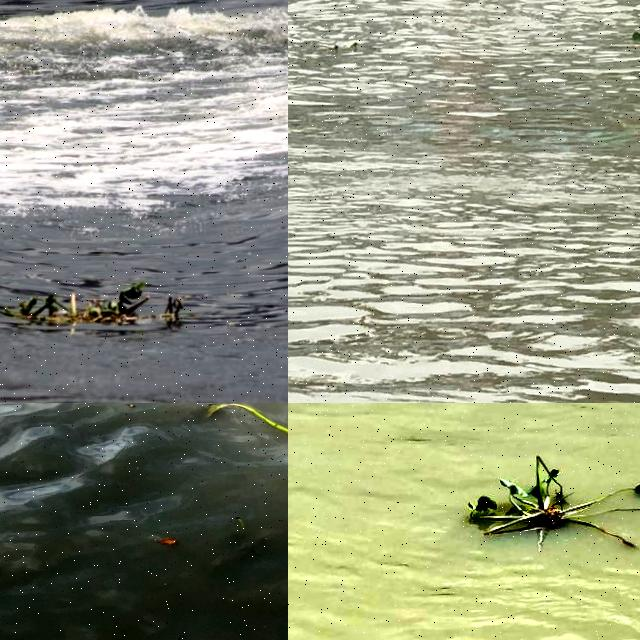water-hyacinth: (462, 443, 640, 561), (1, 274, 184, 340)
